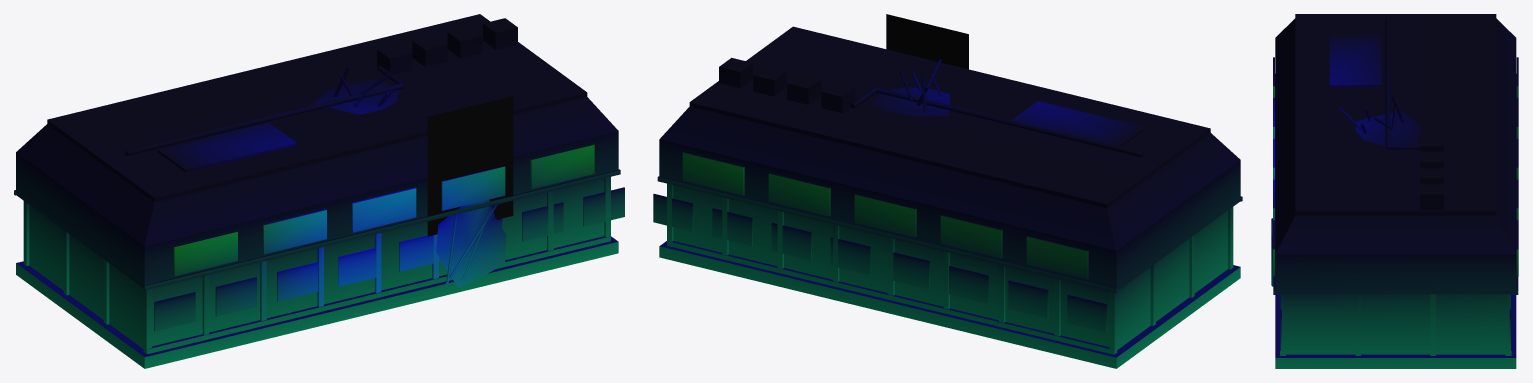
File: walkway_damaged.glb
The picture shows the model from 3 angles, left to right: view 1: azimuth 30°, elevation 25°; view 2: azimuth 150°, elevation 25°; view 3: azimuth 270°, elevation 25°; orthographic projection. The views are drawn at different scales.
Parts seen in each view (by area): view 1: lod0; view 2: lod0; view 3: lod0.
Part boxes in pixels (box(x1,y1,x2,y2)): lod0: box(14, 14, 624, 368); lod0: box(653, 14, 1242, 368); lod0: box(1271, 14, 1518, 368).
Size of what is drawn, in the model's own units: 26.05 by 9.85 by 12.3.
